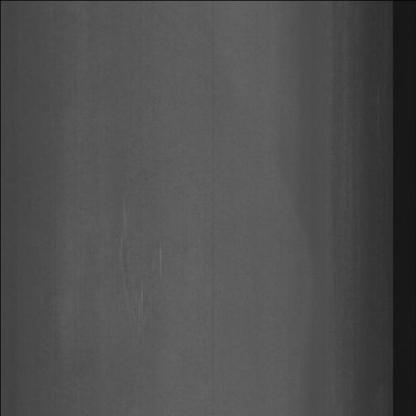silk_spot: (103, 204, 175, 339)
